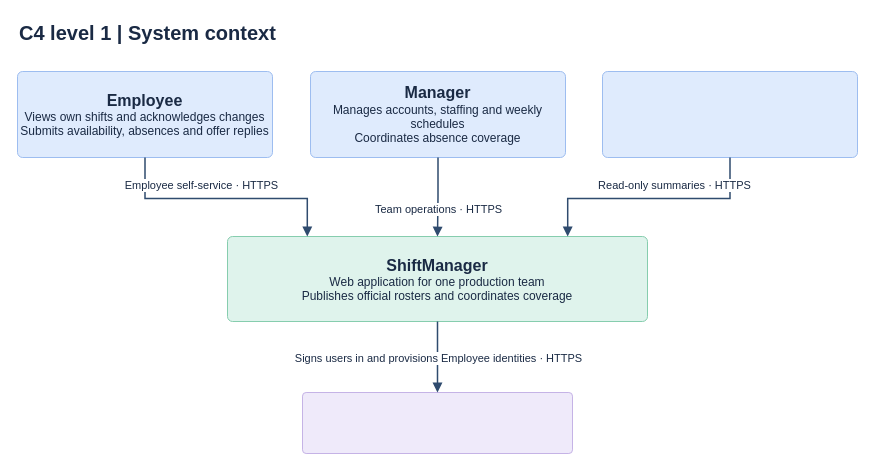
The diagram is 875 pixels wide and 471 high, and some of its shapes have lost their labels. The shapes that lost their labels are listed below. From the top down, each one's box as (x1, y1, x2, y2) in pixels, then its label:
(602, 70, 858, 158): Boss Reviews team coverage, workload and acknowledgement progress
(302, 392, 572, 454): Supabase Auth Managed identity and session service
